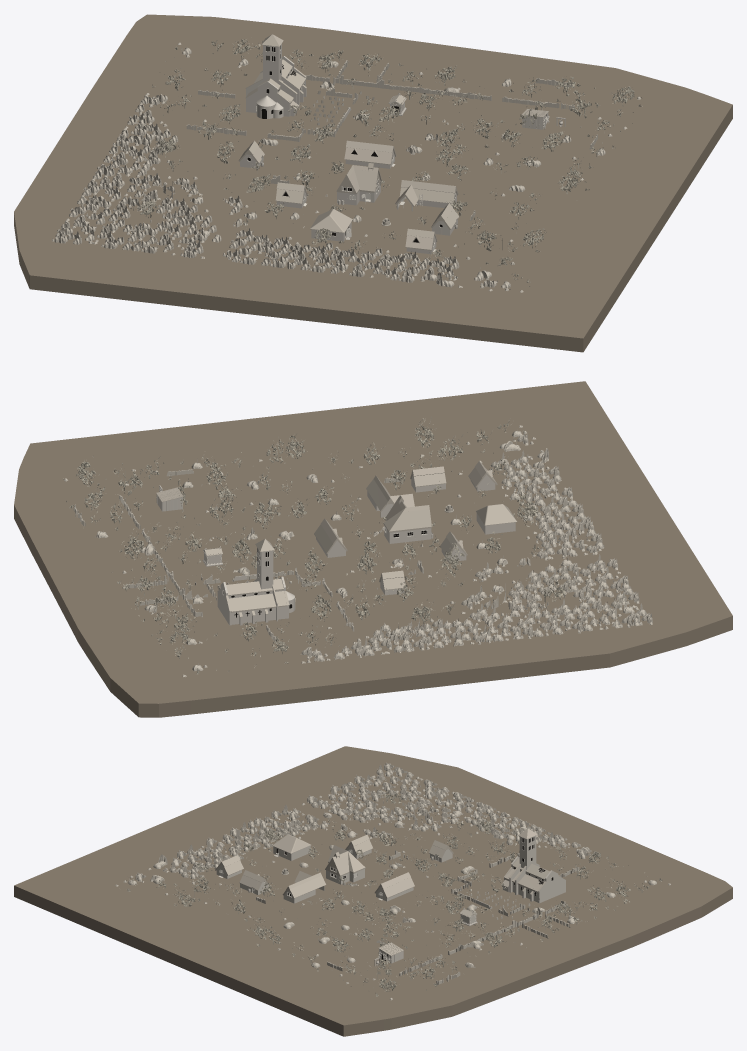
The model's file is tristram_clay.glb.
3 views of the same model, one above another, from view 1: azimuth 30°, elevation 25°; view 2: azimuth 150°, elevation 25°; view 3: azimuth 270°, elevation 25° (orthographic). The views are drawn at different scales.
Visible parts, largest first — view 1: ground, rocks, trees, fences and low walls, The Cathedral: walls, Griswold's forge: roofs, The Cathedral: roofs, Tavern of the Rising Sun: roofs, Cottage, north: roofs, Pepin's house: roofs, Cottage, south-east: roofs, Cottage, south-west: roofs; view 2: ground, rocks, trees, fences and low walls, The Cathedral: walls, The Cathedral: roofs, Tavern of the Rising Sun: roofs, Griswold's forge: roofs, Pepin's house: roofs, House by the town's entrance: roofs, Cottage, north: roofs; view 3: ground, rocks, trees, fences and low walls, The Cathedral: walls, The Cathedral: roofs, Tavern of the Rising Sun: roofs, Griswold's forge: roofs, Cottage, north: roofs.
Boxes of the visible parts, box(x1,y1,x2,y2) form: ground: box(14, 14, 732, 352); rocks: box(52, 42, 640, 292); trees: box(138, 39, 642, 289); fences and low walls: box(186, 60, 597, 220); The Cathedral: walls: box(246, 44, 306, 118); Griswold's forge: roofs: box(395, 180, 458, 206); The Cathedral: roofs: box(245, 34, 306, 110); Tavern of the Rising Sun: roofs: box(336, 163, 381, 193); Cottage, north: roofs: box(344, 140, 396, 164); Pepin's house: roofs: box(310, 209, 352, 232); Cottage, south-east: roofs: box(405, 228, 437, 250); Cottage, south-west: roofs: box(275, 182, 307, 203); ground: box(14, 381, 732, 717); rocks: box(64, 425, 652, 676); trees: box(63, 417, 569, 674); fences and low walls: box(73, 469, 423, 644); The Cathedral: walls: box(217, 547, 294, 625); The Cathedral: roofs: box(217, 539, 289, 617); Tavern of the Rising Sun: roofs: box(383, 495, 431, 532); Griswold's forge: roofs: box(366, 475, 414, 511); Pepin's house: roofs: box(476, 504, 516, 525); House by the town's entrance: roofs: box(410, 466, 446, 487); Cottage, north: roofs: box(314, 518, 347, 553); ground: box(14, 746, 732, 1036); rocks: box(115, 762, 670, 999); trees: box(120, 790, 662, 1000); fences and low walls: box(256, 850, 579, 984); The Cathedral: walls: box(503, 835, 565, 903); The Cathedral: roofs: box(501, 828, 565, 894); Tavern of the Rising Sun: roofs: box(325, 845, 365, 876); Griswold's forge: roofs: box(282, 871, 326, 898); Cottage, north: roofs: box(374, 872, 414, 898).
Bounding box in the file's own units: 158 × 18.6 × 172.
